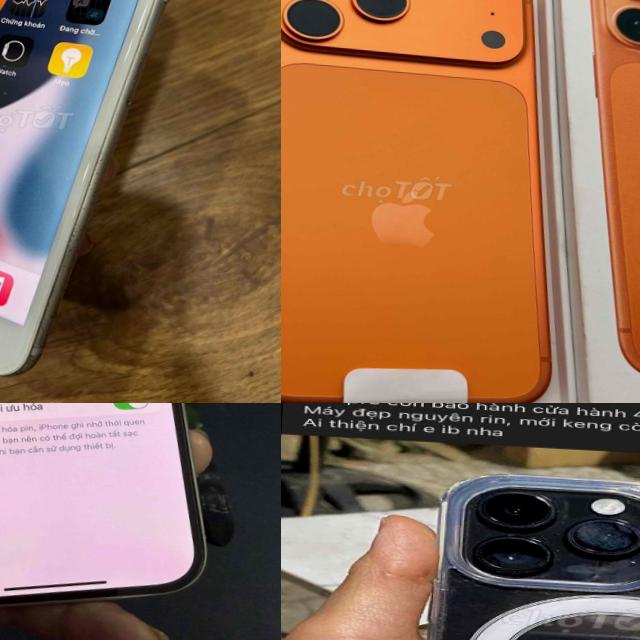gen_14: (0, 403, 232, 625), (388, 457, 640, 640)
gen_17: (281, 0, 599, 403)
gen_7_8: (0, 0, 205, 390)
scratch: (8, 146, 112, 380), (486, 506, 640, 576)
